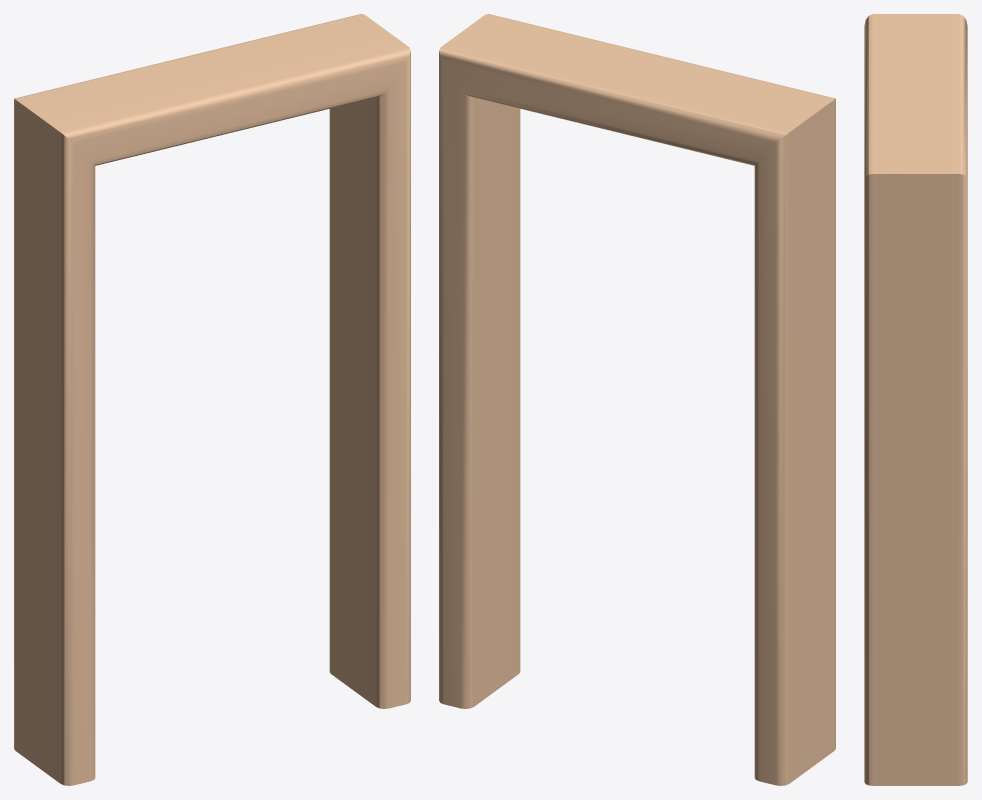
Rendered from Door_Edge_1.fbx.
3 renders of one model, left to right at view 1: azimuth 30°, elevation 25°; view 2: azimuth 150°, elevation 25°; view 3: azimuth 270°, elevation 25°, orthographic. The views are drawn at different scales.
Parts seen in each view (by area): view 1: Door_Edge_1; view 2: Door_Edge_1; view 3: Door_Edge_1.
Boxes of the visible parts, <box> form: Door_Edge_1: <box>14,14,410,785</box>; Door_Edge_1: <box>439,14,835,785</box>; Door_Edge_1: <box>864,14,967,785</box>.
Bounding box in the file's own units: 61.96 × 111 × 16.89.
